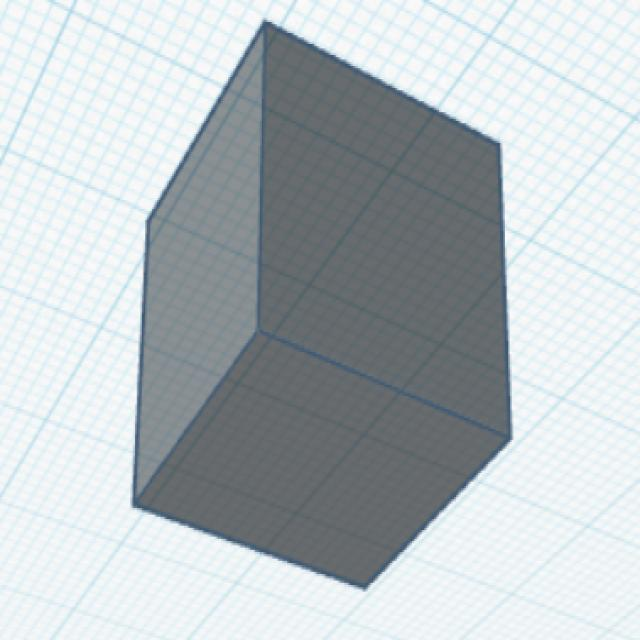cube: (127, 14, 516, 595)
